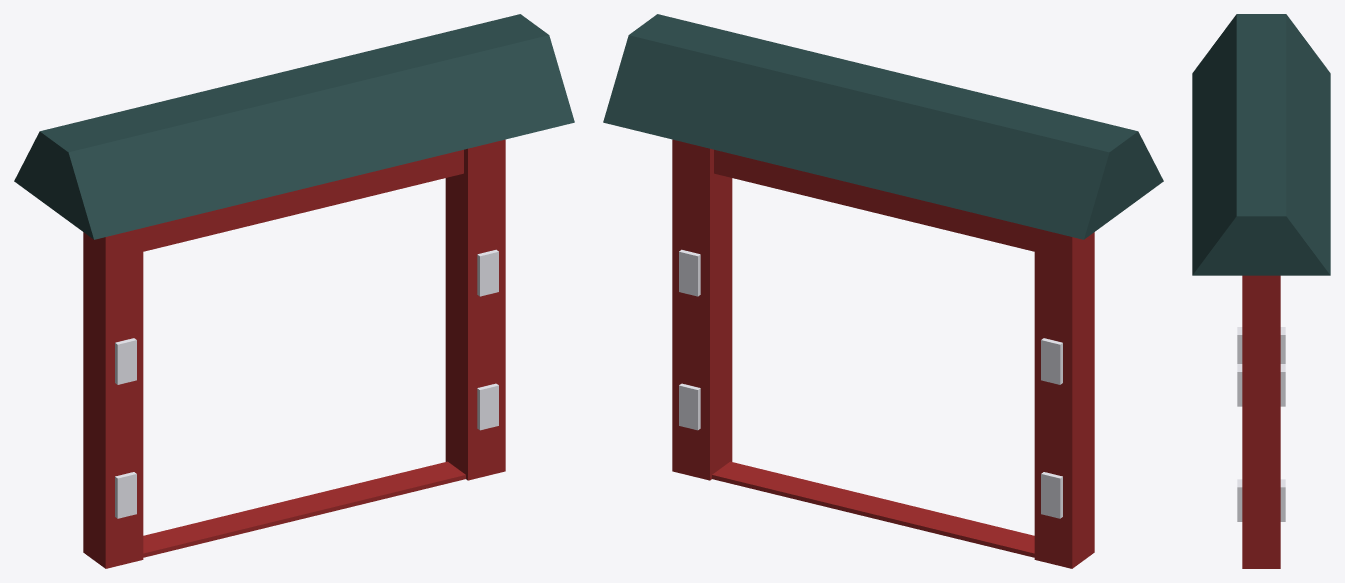
File: Asian_Prop_Building_Fence_Wall_Gateway_02.FBX
The picture shows the model from 3 angles, left to right: view 1: azimuth 30°, elevation 25°; view 2: azimuth 150°, elevation 25°; view 3: azimuth 270°, elevation 25°; orthographic projection. The views are drawn at different scales.
Visible parts, largest first — view 1: Asian_Prop_Building_Fence_Wall_Gateway_02; view 2: Asian_Prop_Building_Fence_Wall_Gateway_02; view 3: Asian_Prop_Building_Fence_Wall_Gateway_02.
Part boxes in pixels (<box>): Asian_Prop_Building_Fence_Wall_Gateway_02: <box>14,14,574,568</box>; Asian_Prop_Building_Fence_Wall_Gateway_02: <box>603,14,1163,568</box>; Asian_Prop_Building_Fence_Wall_Gateway_02: <box>1192,14,1330,568</box>.
Size of the model in its own units: 6215 by 5297 by 1793.
